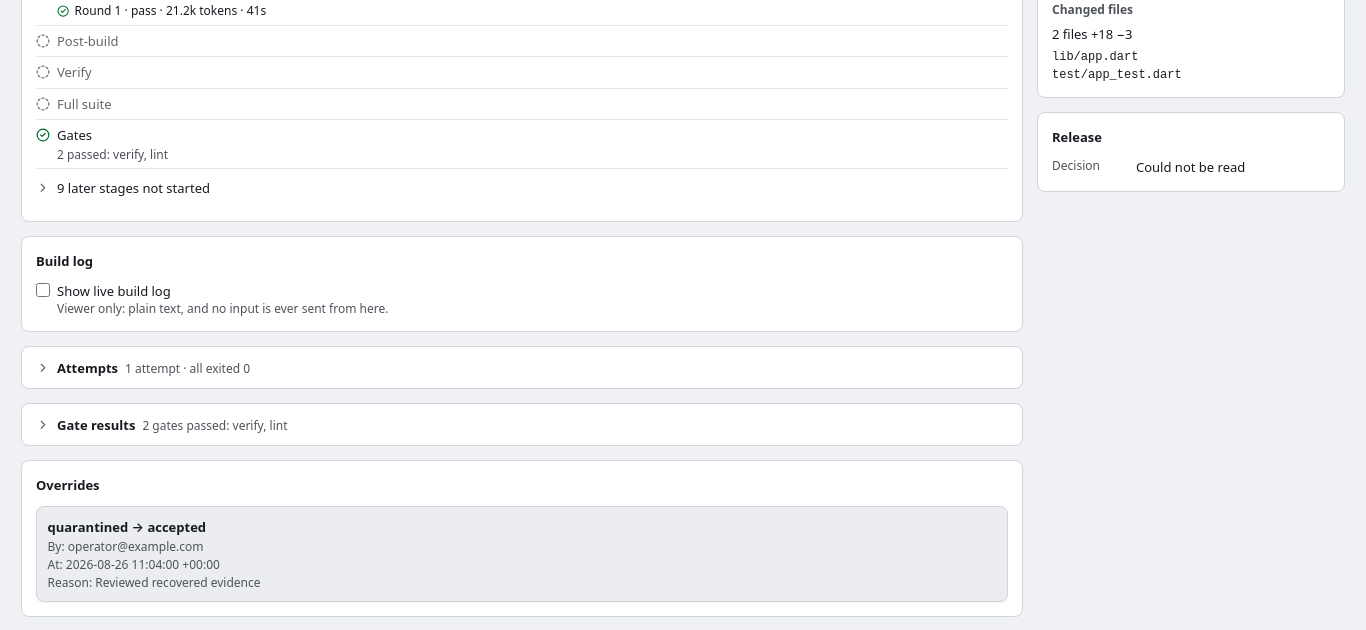
Test case: a finished run › a closed block opens in place and shows its rows
(page scrolled)
Click the heading "Gate results": (96, 425) [57,415,135,435]
(page scrolled)
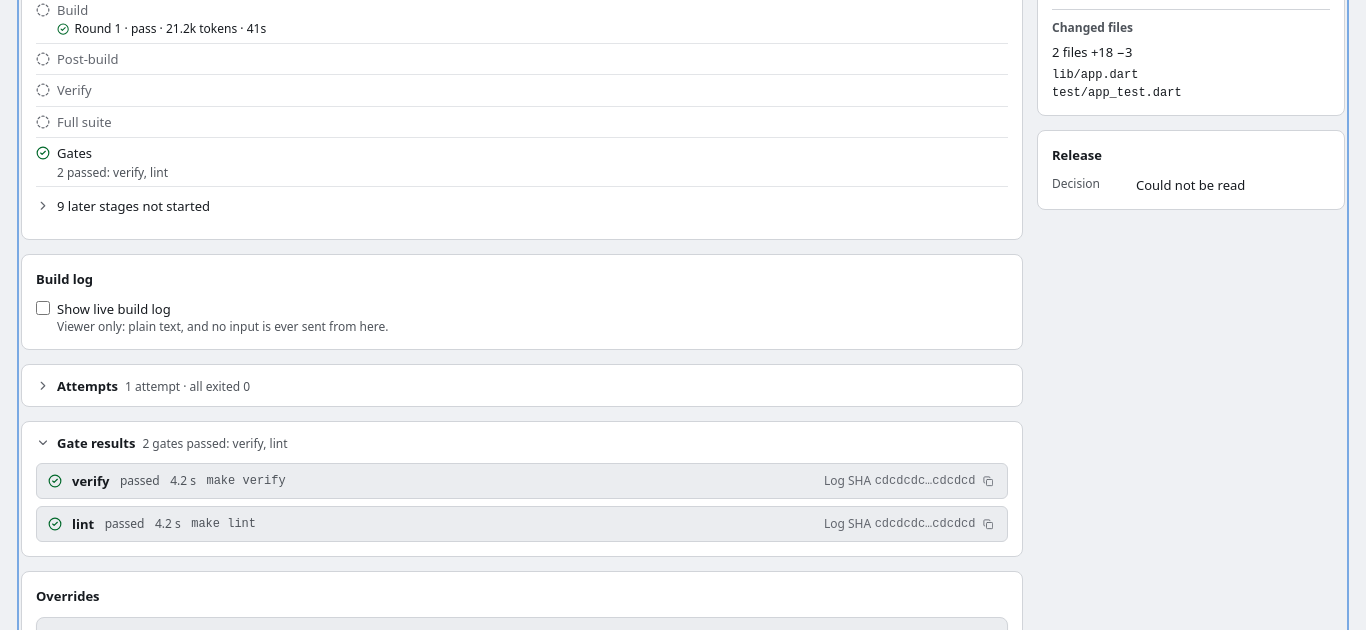
Check: the list item with test id "gate-verify" is shown, box [36,463,1008,499]
